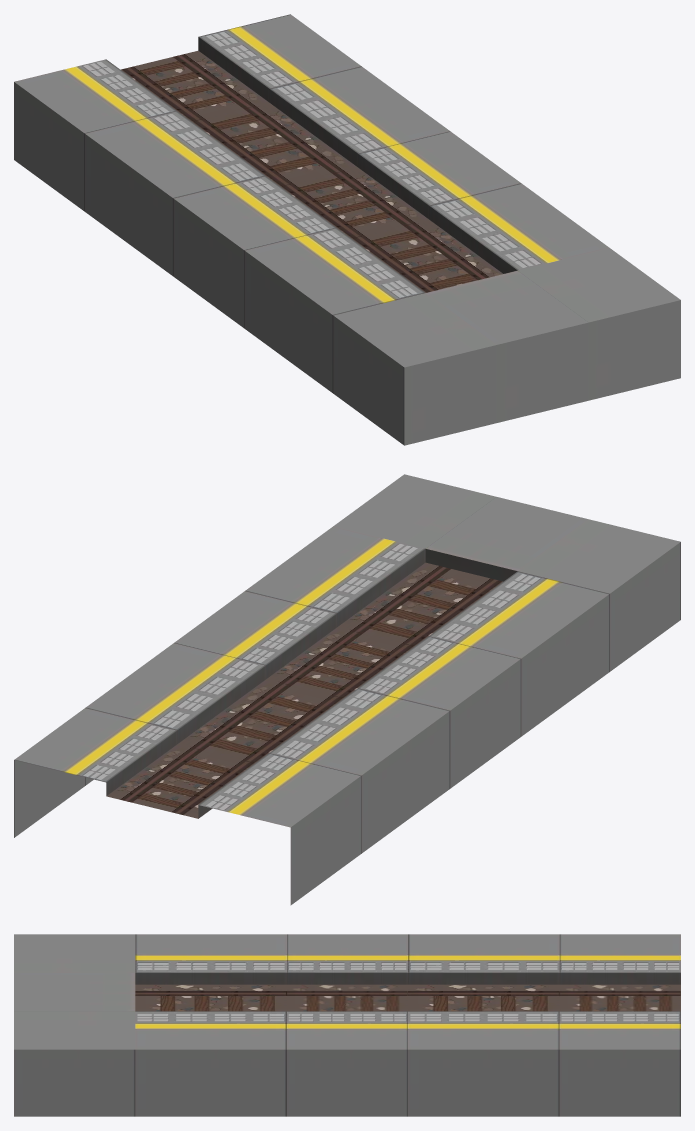
The model's file is city_train_track_end.glb.
3 renders of one model, top to bottom at view 1: azimuth 30°, elevation 25°; view 2: azimuth 150°, elevation 25°; view 3: azimuth 270°, elevation 25°, orthographic. The views are drawn at different scales.
Visible parts, largest first — view 1: track_end; view 2: track_end; view 3: track_end.
Boxes of the visible parts, x1=… form: track_end: x1=14, y1=14, x2=680, y2=445; track_end: x1=14, y1=474, x2=680, y2=905; track_end: x1=14, y1=934, x2=680, y2=1116.
Bounding box in the file's own units: 9 × 2.43 × 22.
Materials: 1 (1 with a texture image).
